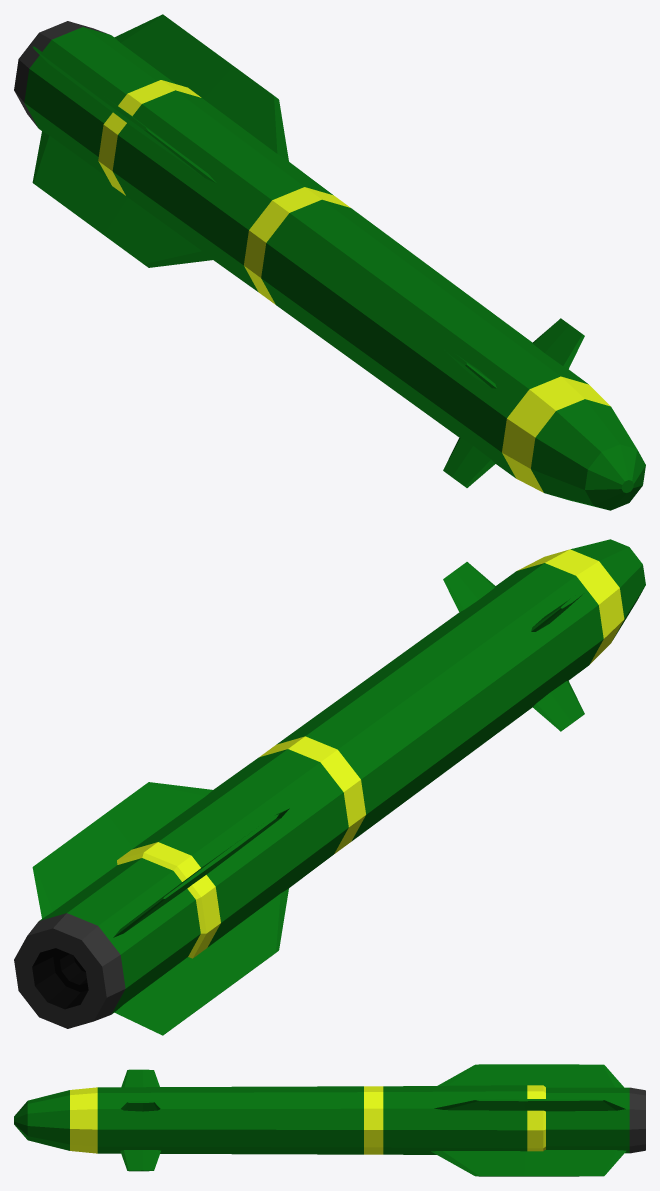
File: SM_missile01.fbx
3 renders of one model, top to bottom at view 1: azimuth 30°, elevation 25°; view 2: azimuth 150°, elevation 25°; view 3: azimuth 270°, elevation 25°, orthographic. The views are drawn at different scales.
Visible parts, largest first — view 1: Cylinder; view 2: Cylinder; view 3: Cylinder.
Part boxes in pixels (<box>): Cylinder: <box>14,14,645,510</box>; Cylinder: <box>14,539,645,1035</box>; Cylinder: <box>14,1064,645,1176</box>.
Size of the model in its own units: 40.95 by 40.95 by 302.
